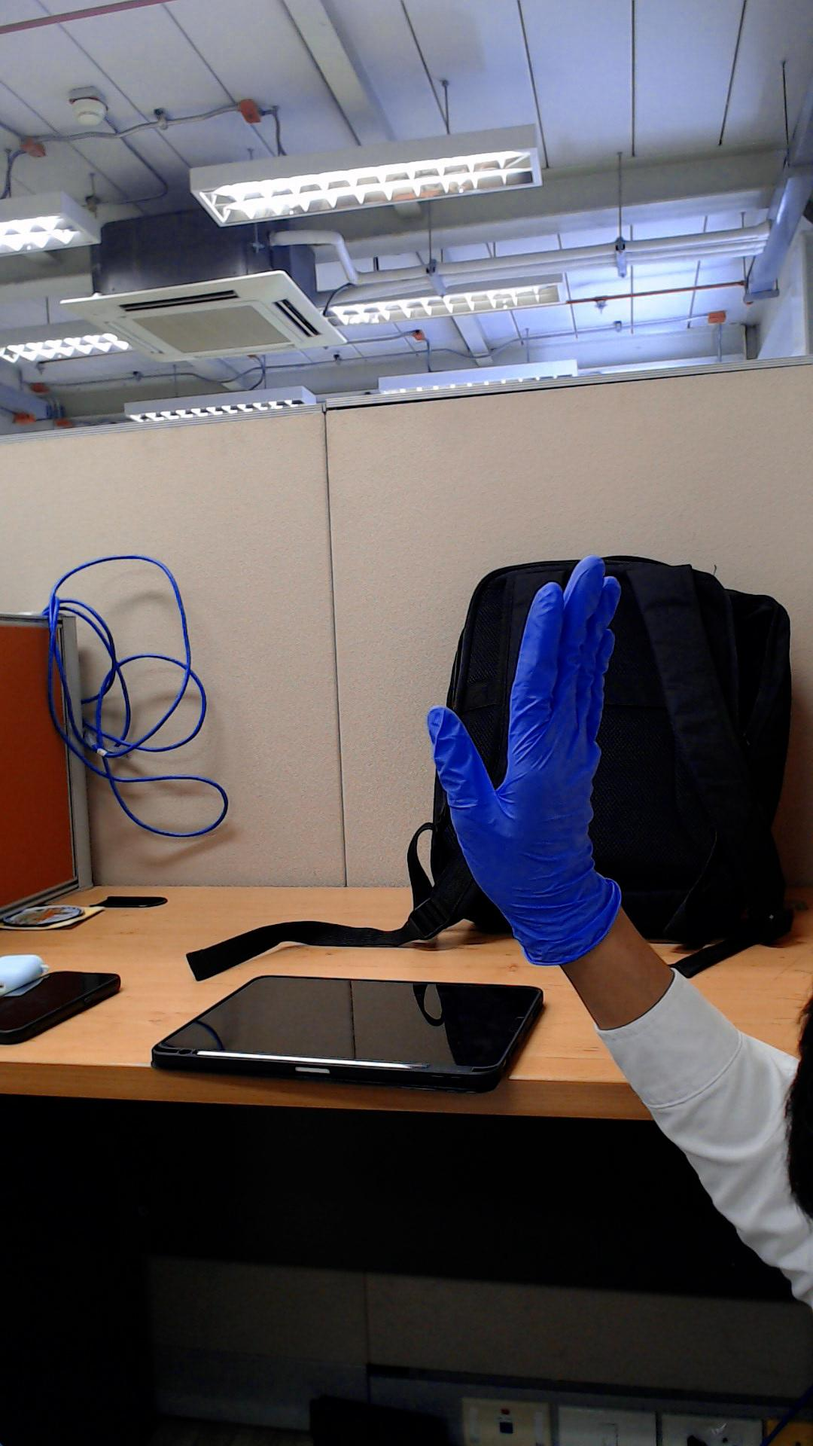gloves: (400, 523, 657, 868)
